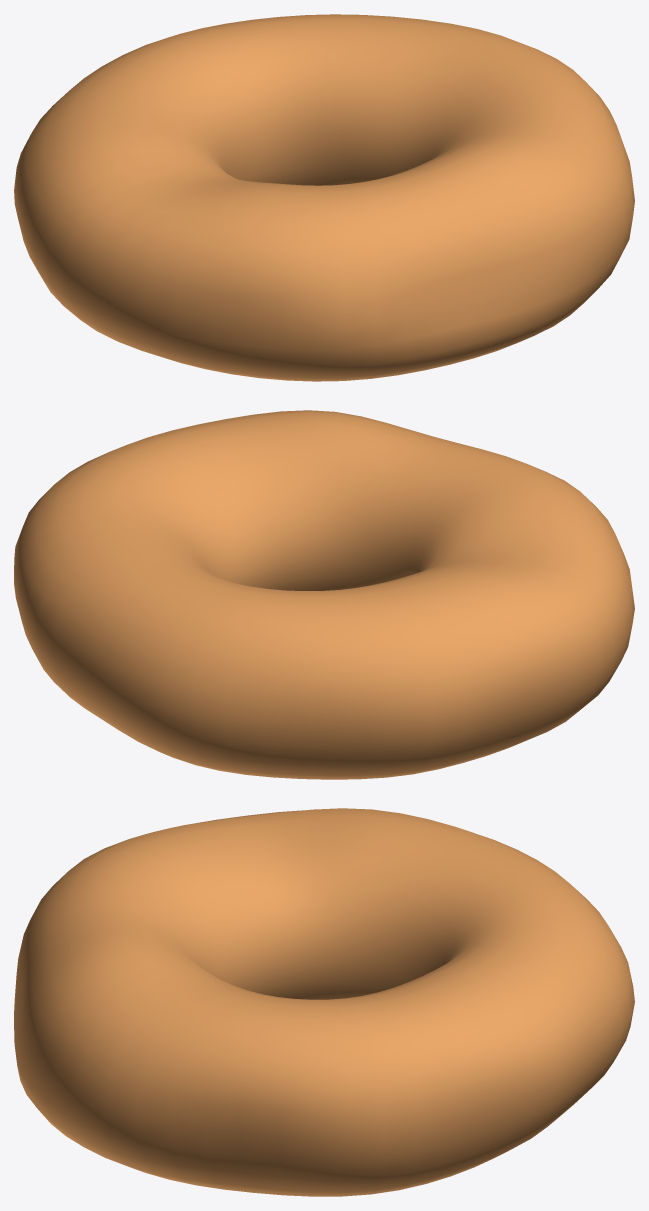
Rendered from donut.gltf.
3 views of the same model, one above another, from view 1: azimuth 30°, elevation 25°; view 2: azimuth 150°, elevation 25°; view 3: azimuth 270°, elevation 25° (orthographic). The views are drawn at different scales.
Parts seen in each view (by area): view 1: donut.002; view 2: donut.002; view 3: donut.002.
Boxes of the visible parts, x1,y1,x2,y2 form: donut.002: [14, 14, 634, 381]; donut.002: [14, 410, 634, 779]; donut.002: [14, 808, 634, 1196].
Size of the model in its own units: 0.2952 by 0.0914 by 0.2758.
